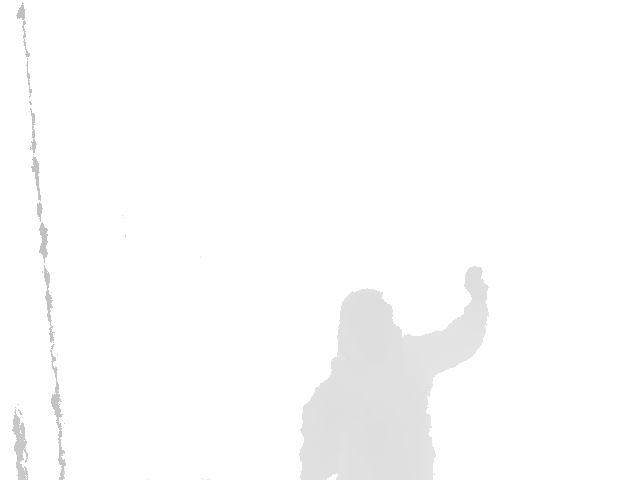hand: (463, 265, 490, 305)
head: (338, 288, 402, 360)
person: (298, 265, 491, 480)
